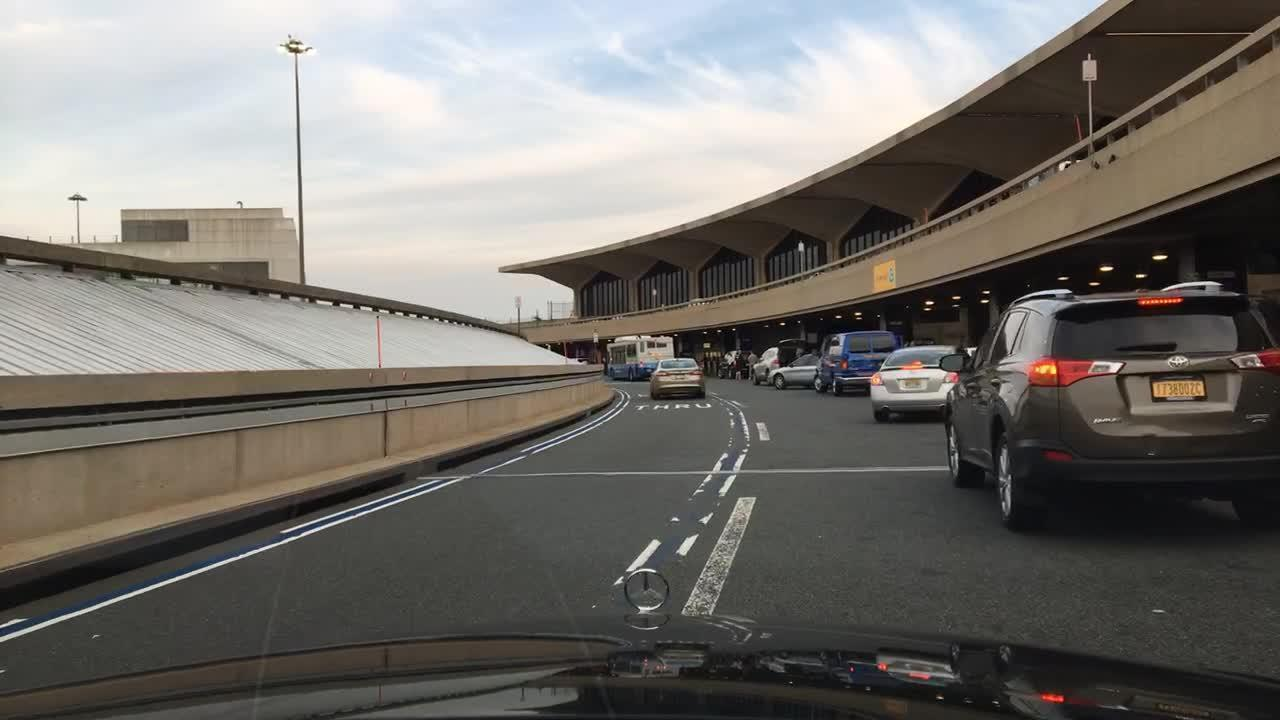Mercedes: (615, 556, 681, 628)
Toyota: (1164, 352, 1193, 374)
